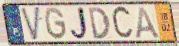A: (135, 6, 163, 40)
C: (111, 5, 135, 42)
D: (87, 6, 112, 40)
G: (44, 7, 69, 42)
J: (69, 6, 91, 42)
V: (19, 5, 41, 43)
